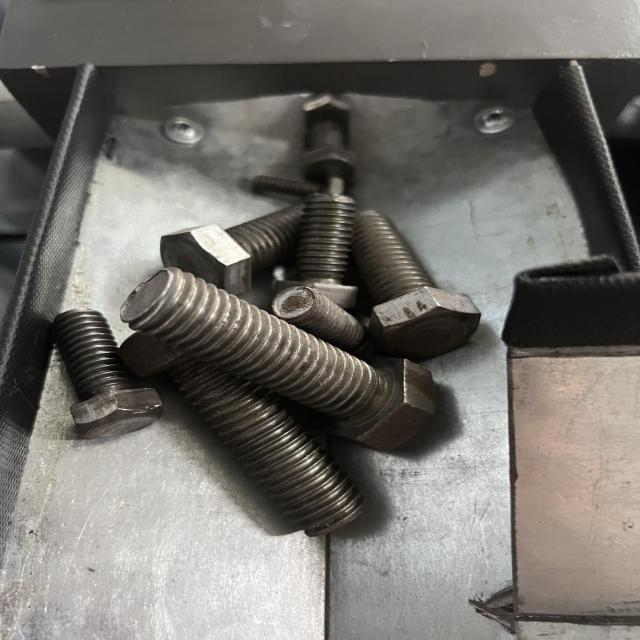bolt: (125, 269, 436, 448), (52, 306, 162, 438)
